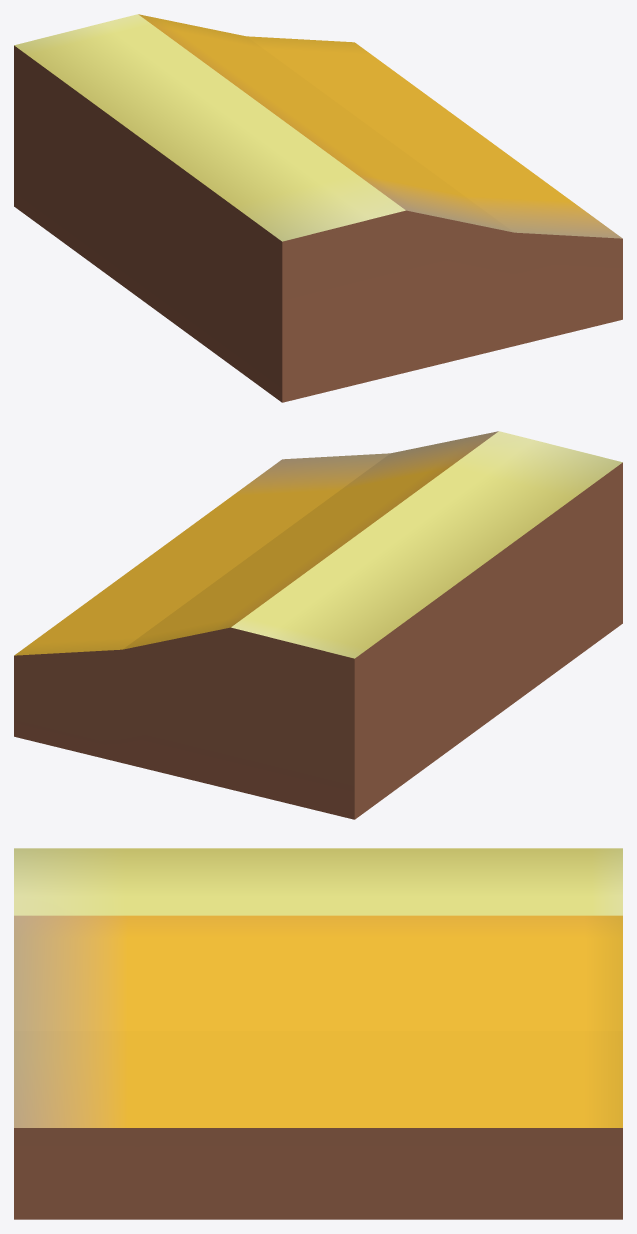
File: Shore.Verical.A.Desert.glb
The picture shows the model from 3 angles, top to bottom: view 1: azimuth 30°, elevation 25°; view 2: azimuth 150°, elevation 25°; view 3: azimuth 270°, elevation 25°; orthographic projection. The views are drawn at different scales.
Visible parts, largest first — view 1: Shore.Verical.A.Desert; view 2: Shore.Verical.A.Desert; view 3: Shore.Verical.A.Desert.
Boxes of the visible parts, x1,y1,x2,y2 form: Shore.Verical.A.Desert: [14, 14, 622, 402]; Shore.Verical.A.Desert: [14, 431, 622, 819]; Shore.Verical.A.Desert: [14, 848, 622, 1219].
Bounding box in the file's own units: 2.2 × 1 × 3.
Materials: 1 (1 with a texture image).
